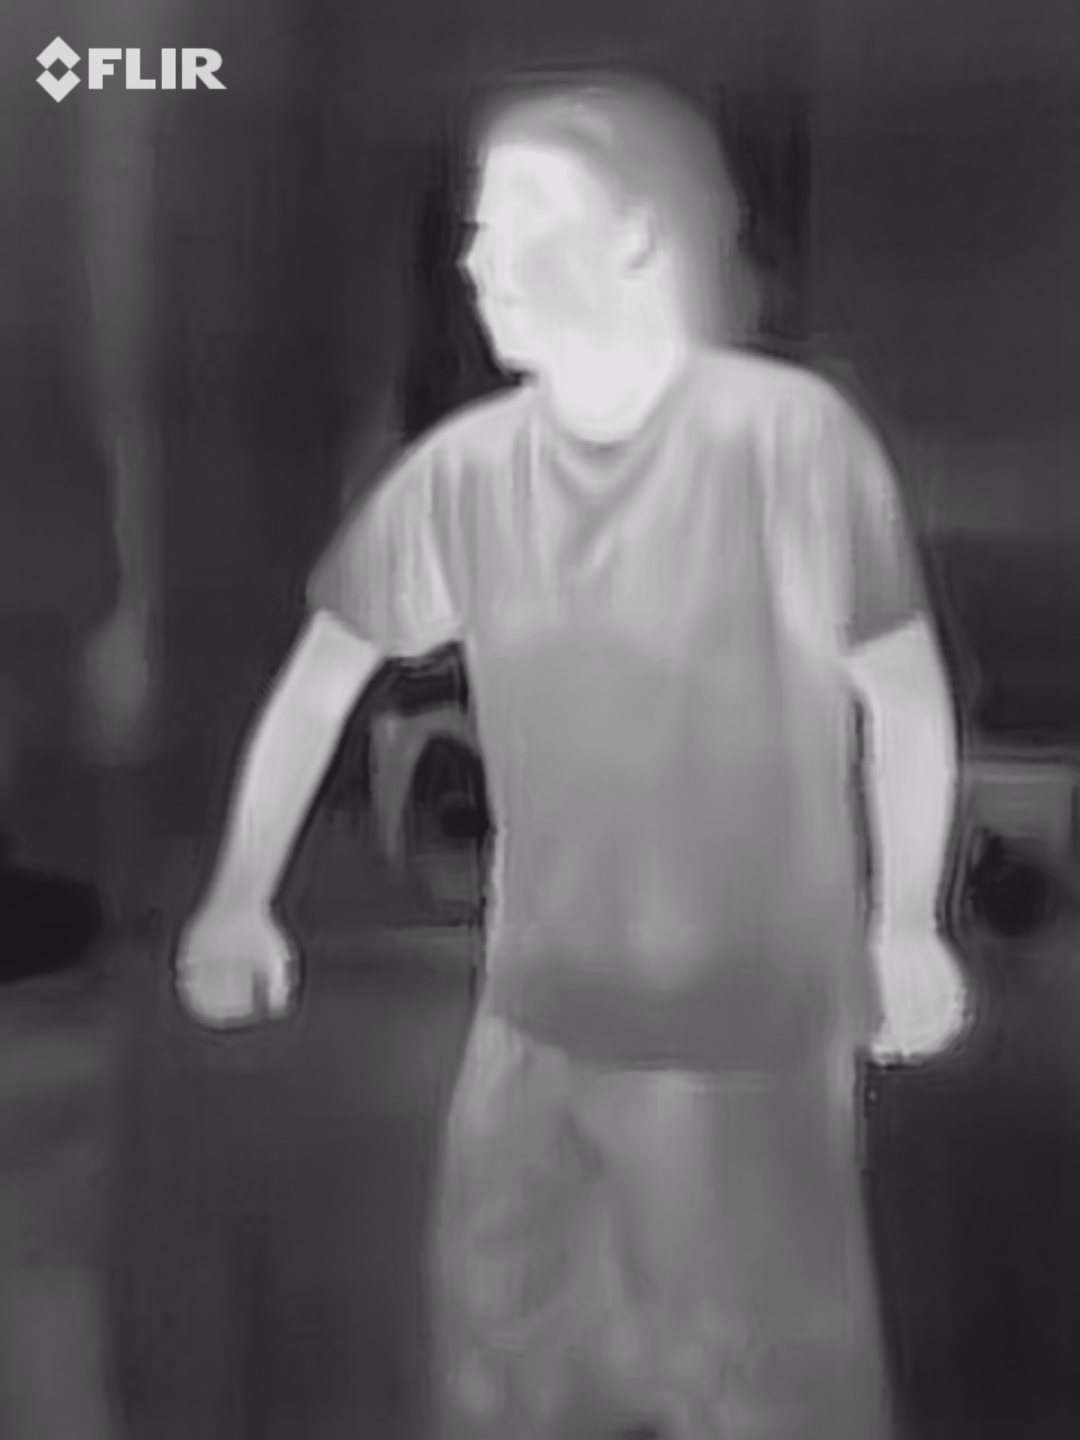head: (454, 79, 729, 385)
